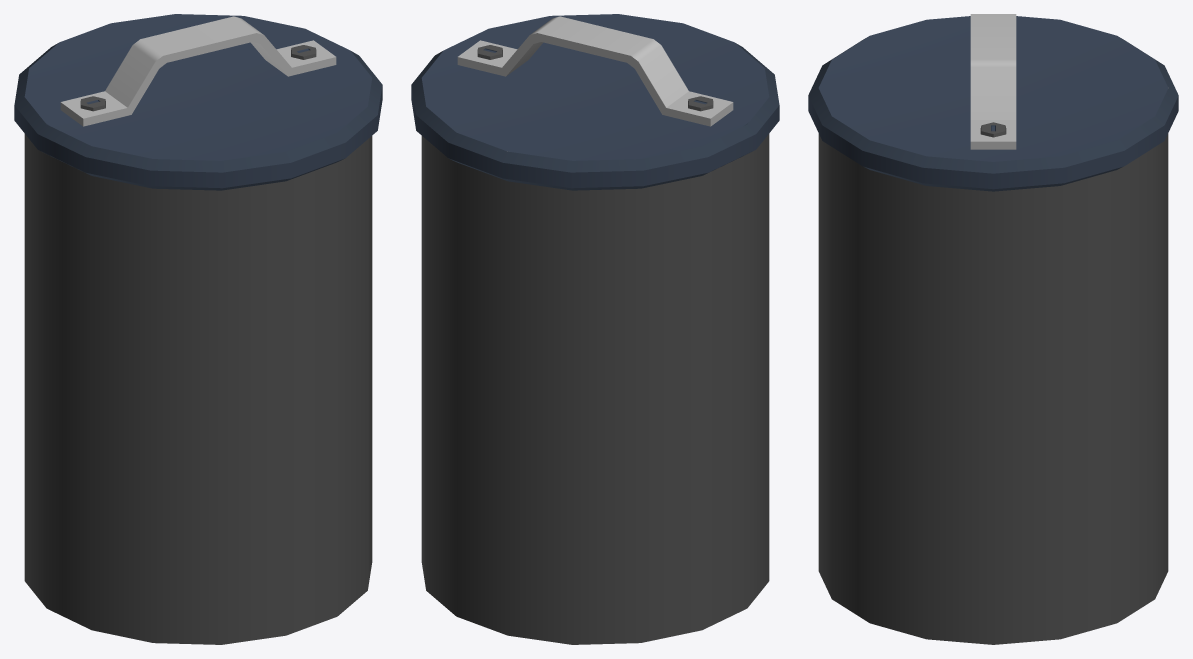
File: Bolt.fbx
3 renders of one model, left to right at view 1: azimuth 30°, elevation 25°; view 2: azimuth 150°, elevation 25°; view 3: azimuth 270°, elevation 25°, orthographic.
Visible parts, largest first — view 1: pCylinder4; view 2: pCylinder4; view 3: pCylinder4.
Boxes of the visible parts, left/top/right/bottom form: pCylinder4: left=14, top=14, right=382, bottom=644; pCylinder4: left=411, top=14, right=779, bottom=644; pCylinder4: left=808, top=14, right=1178, bottom=644.
Size of the model in its own units: 2.12 by 3.37 by 2.12.
